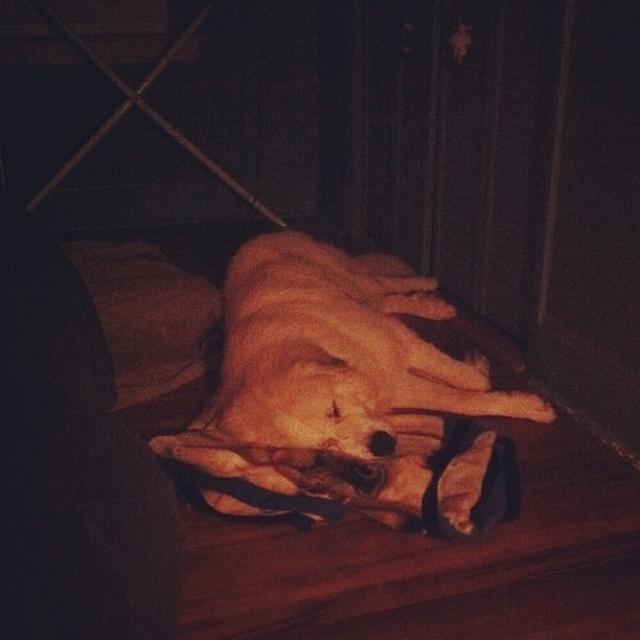Dog: (140, 167, 533, 584)
